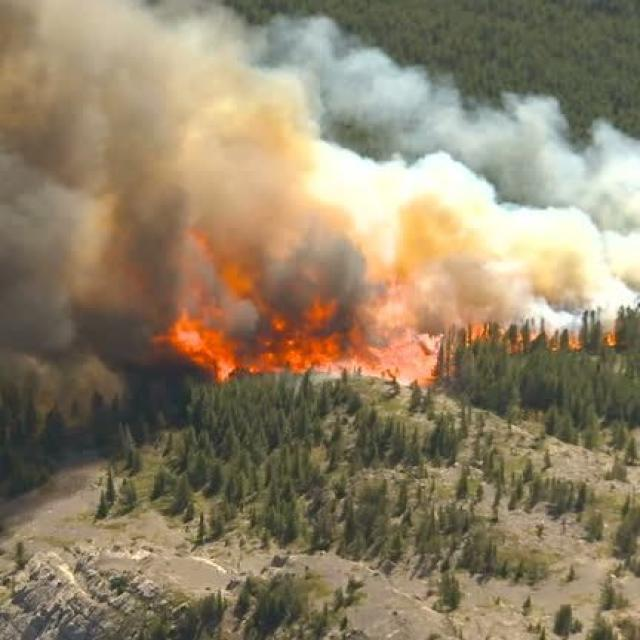Fire: (168, 304, 404, 386), (376, 325, 439, 389), (513, 330, 634, 354), (454, 316, 486, 356)
Smoke: (0, 0, 621, 349)
